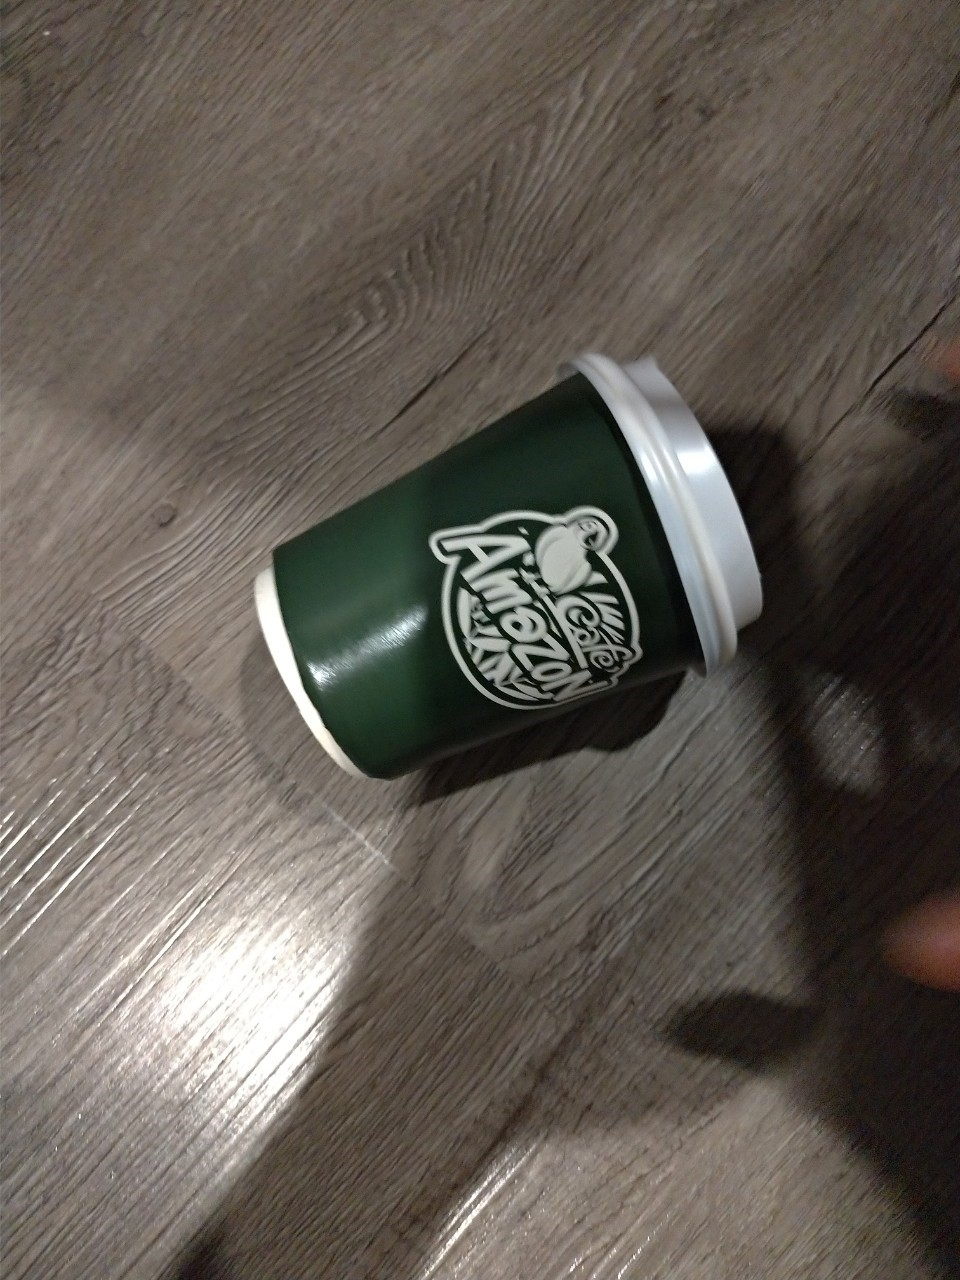PaperCup: (257, 349, 763, 792)
